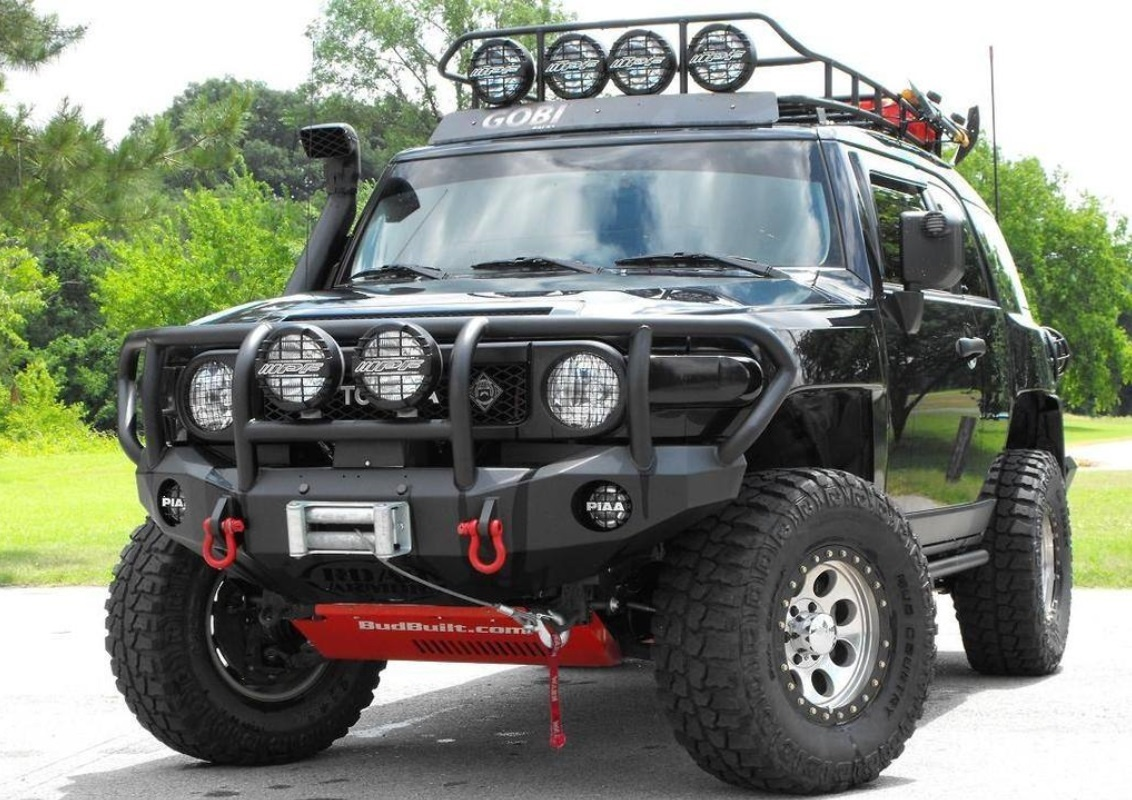jeep: (78, 31, 1087, 785)
